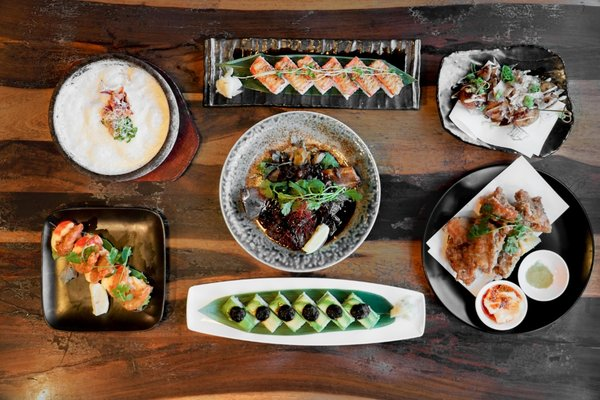sushi: (218, 110, 381, 272), (43, 204, 169, 330), (516, 248, 570, 302)
